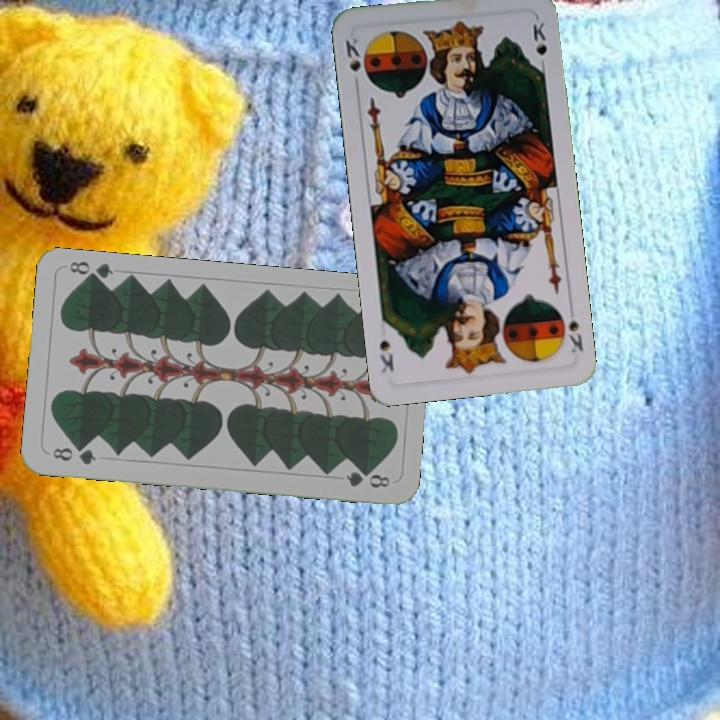G8: (48, 442, 99, 468)
SK: (565, 301, 586, 355), (341, 32, 363, 74)
